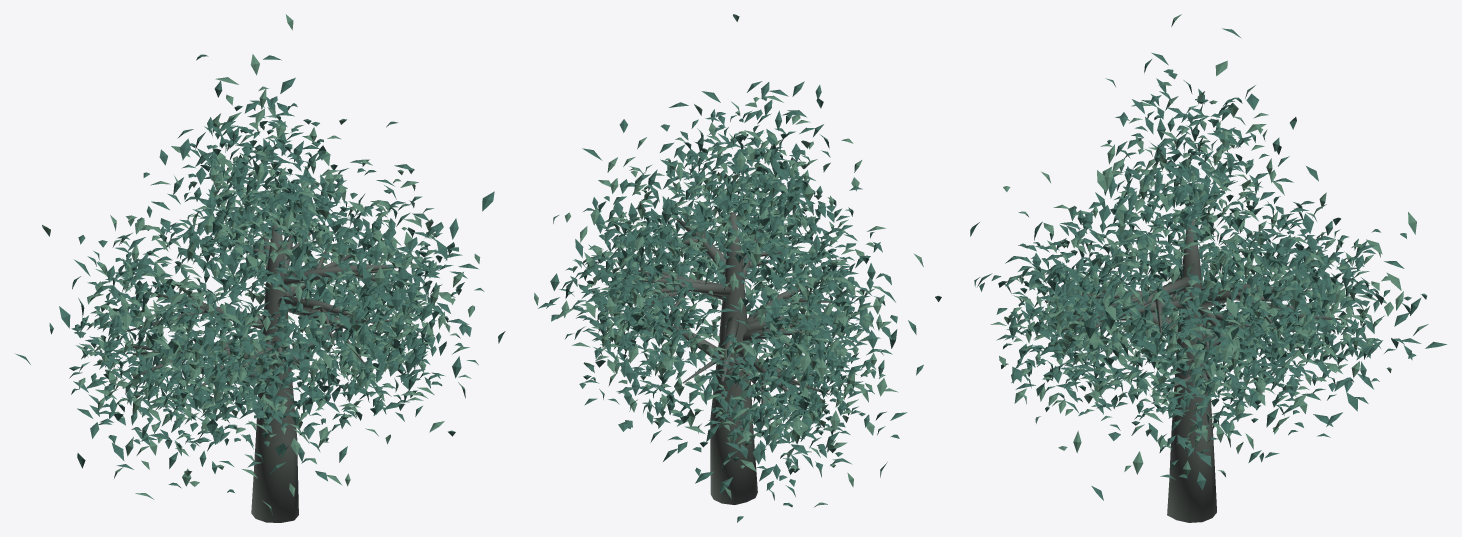
File: willow.glb
The picture shows the model from 3 angles, left to right: view 1: azimuth 30°, elevation 25°; view 2: azimuth 150°, elevation 25°; view 3: azimuth 270°, elevation 25°; orthographic projection. The views are drawn at different scales.
Visible parts, largest first — view 1: Moonwater willow leaves, Moonwater willow branches; view 2: Moonwater willow leaves, Moonwater willow branches; view 3: Moonwater willow leaves, Moonwater willow branches.
Boxes of the visible parts, x1=… form: Moonwater willow leaves: x1=15, y1=14, x2=505, y2=515; Moonwater willow branches: x1=126, y1=219, x2=399, y2=522; Moonwater willow leaves: x1=534, y1=14, x2=941, y2=522; Moonwater willow branches: x1=632, y1=212, x2=832, y2=504; Moonwater willow leaves: x1=970, y1=14, x2=1446, y2=500; Moonwater willow branches: x1=1065, y1=218, x2=1347, y2=522.
Size of the model in its own units: 6.3 by 7.51 by 6.48.
